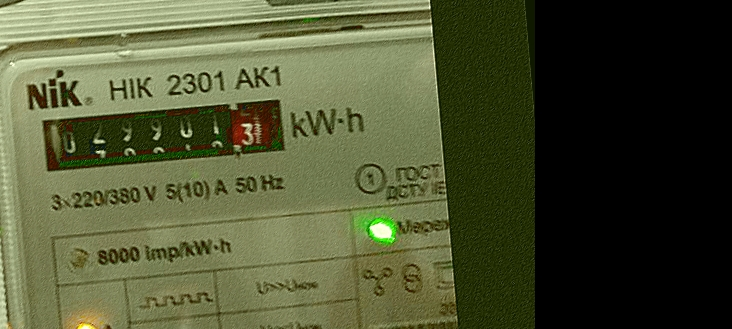0: (56, 125, 76, 154), (174, 109, 192, 139)
1: (205, 106, 220, 135)
2: (85, 117, 106, 145)
3: (235, 118, 254, 145)
9: (115, 114, 133, 143), (146, 113, 161, 141)
screen: (29, 87, 295, 181)
